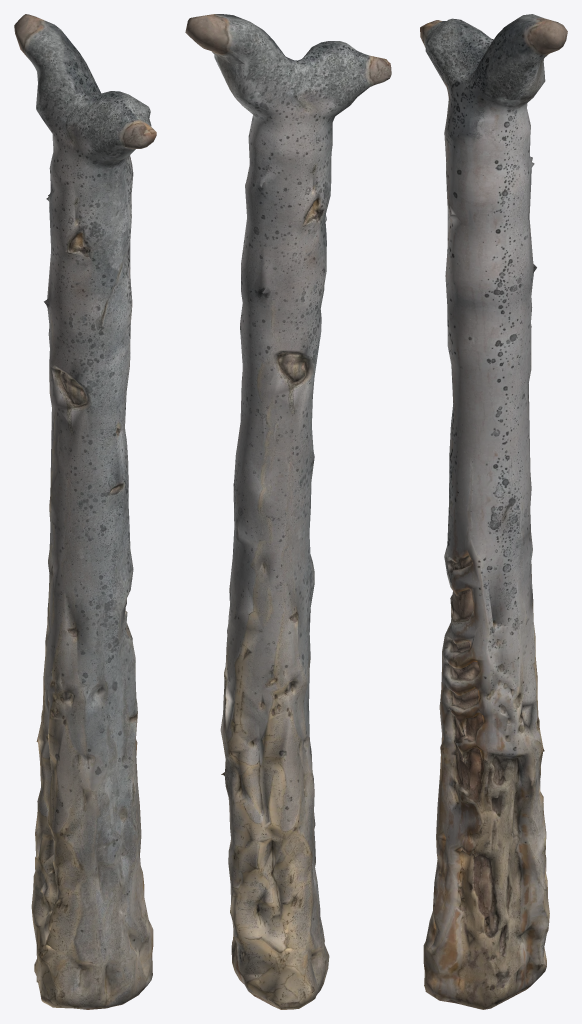
Rendered from dead_quiver_trunk.glb.
3 views of the same model, side by side, from view 1: azimuth 90°, elevation 25°; view 2: azimuth 150°, elevation 25°; view 3: azimuth 270°, elevation 25° (orthographic). The views are drawn at different scales.
Visible parts, largest first — view 1: dead_quiver_trunk_LOD0; view 2: dead_quiver_trunk_LOD0; view 3: dead_quiver_trunk_LOD0.
Boxes of the visible parts, box(x1,y1,x2,y2) form: dead_quiver_trunk_LOD0: box(14, 14, 156, 1009); dead_quiver_trunk_LOD0: box(185, 14, 391, 1009); dead_quiver_trunk_LOD0: box(420, 14, 567, 1009).
Size of the model in its own units: 0.3053 by 1.99 by 0.2681.
1 material, 1 textured.
